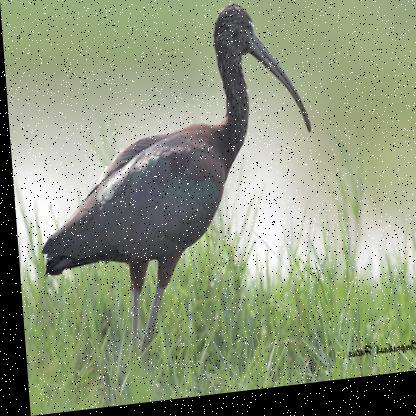Burung: (26, 0, 321, 369)
